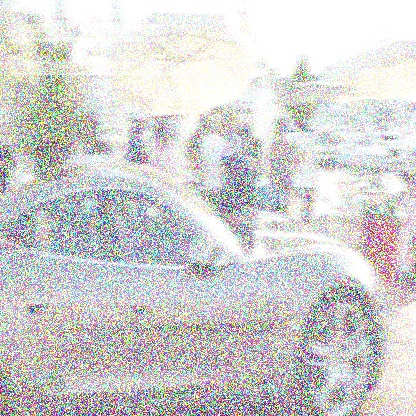Vehicle: (1, 163, 393, 415)
